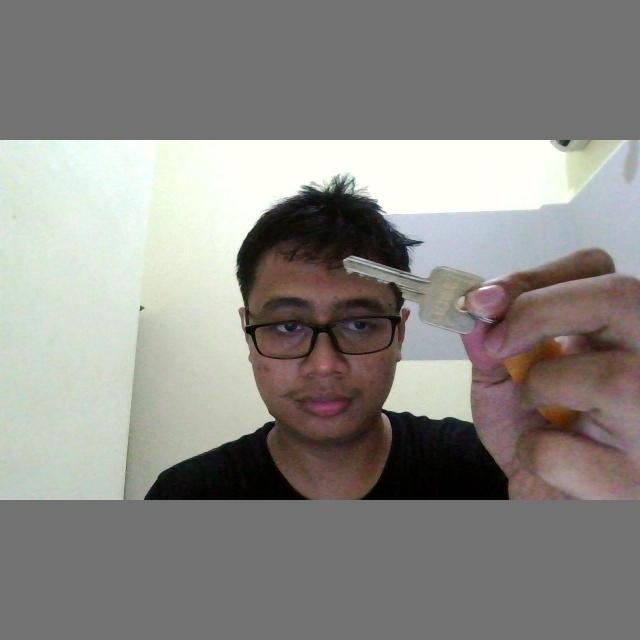Keys: (340, 246, 484, 340)
